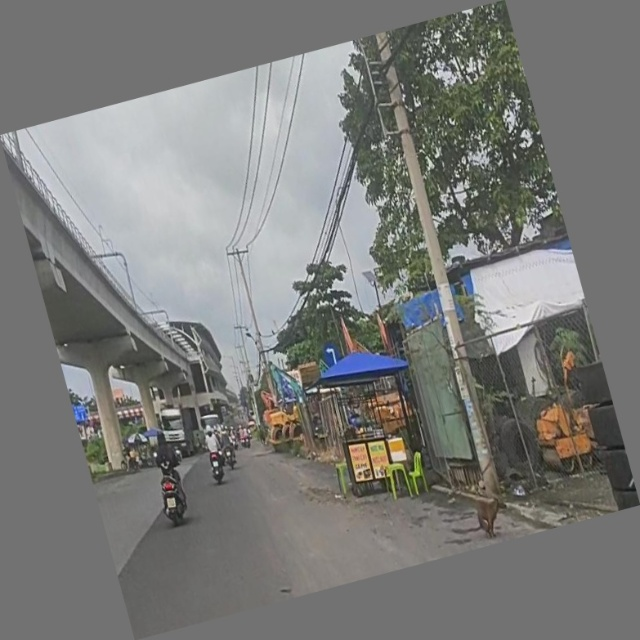R.301e: (319, 341, 342, 371)
